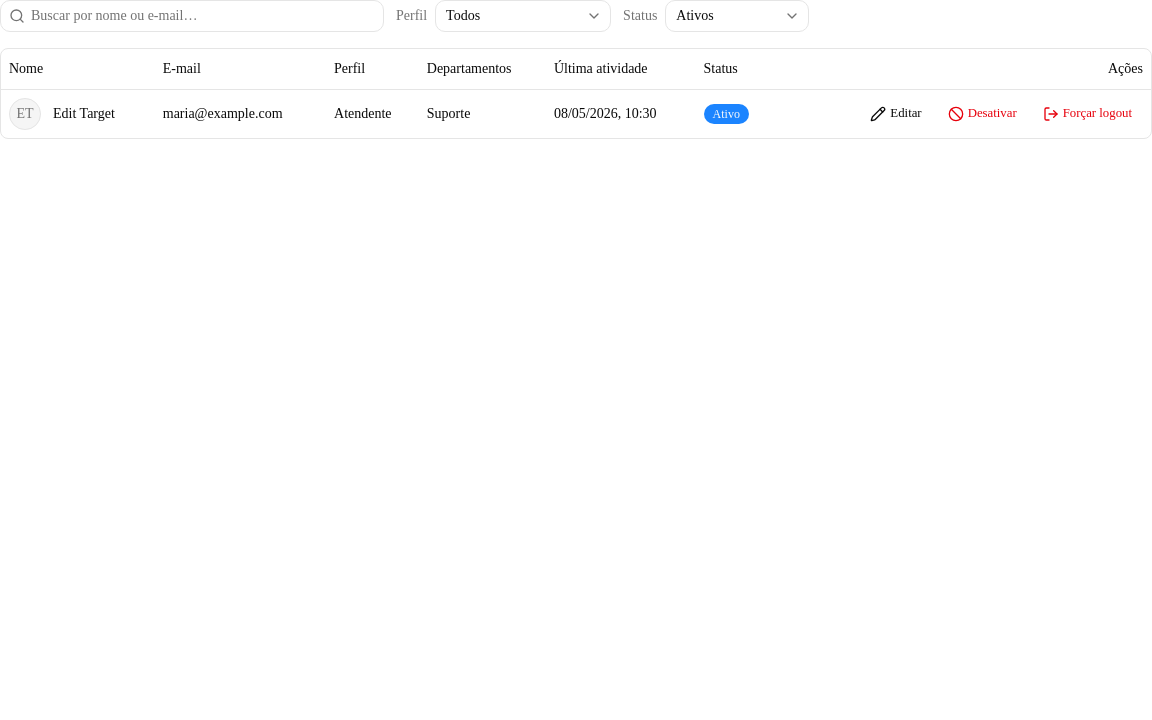
Test: UsersTable › clicar Editar abre UserDialog (título "Editar usuário")
Click the button with aria-label "editar usuário edit target". click: (896, 114)
box: [859,100,933,128]
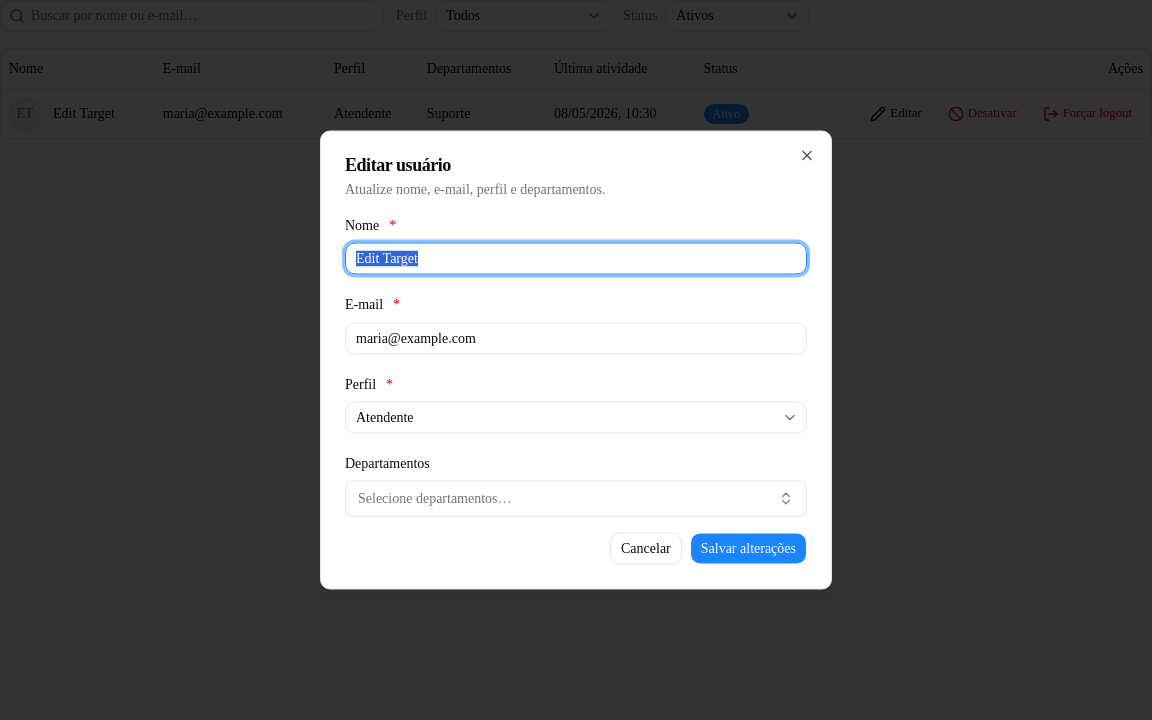
Now the heading "Editar usuário" is shown, box [345,154,451,174]
